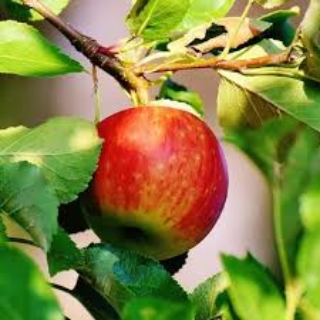tao: (80, 98, 231, 266)
